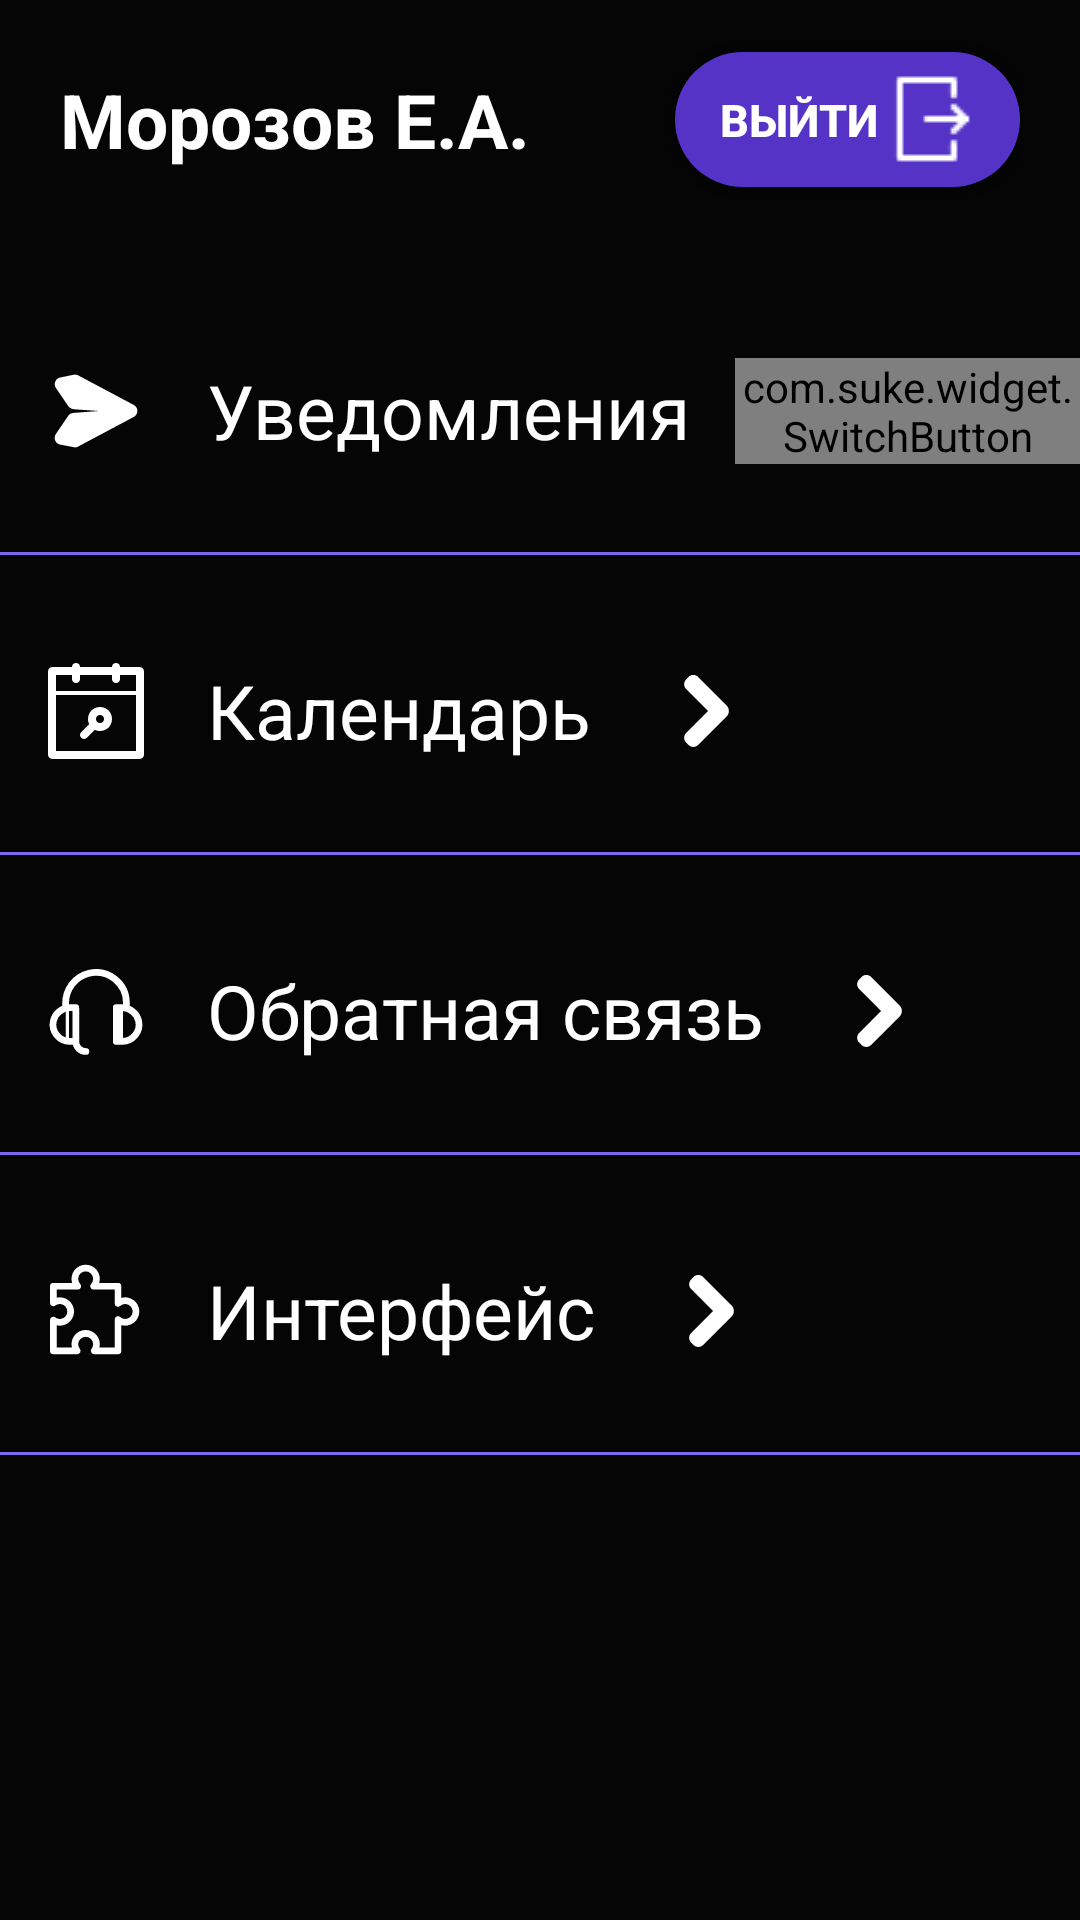

Where to tap for icons on this 1080*1920 app screen, as [x,y]:
calendar: [96,711]
feedback: [96,1012]
pazzle: [95,1309]
